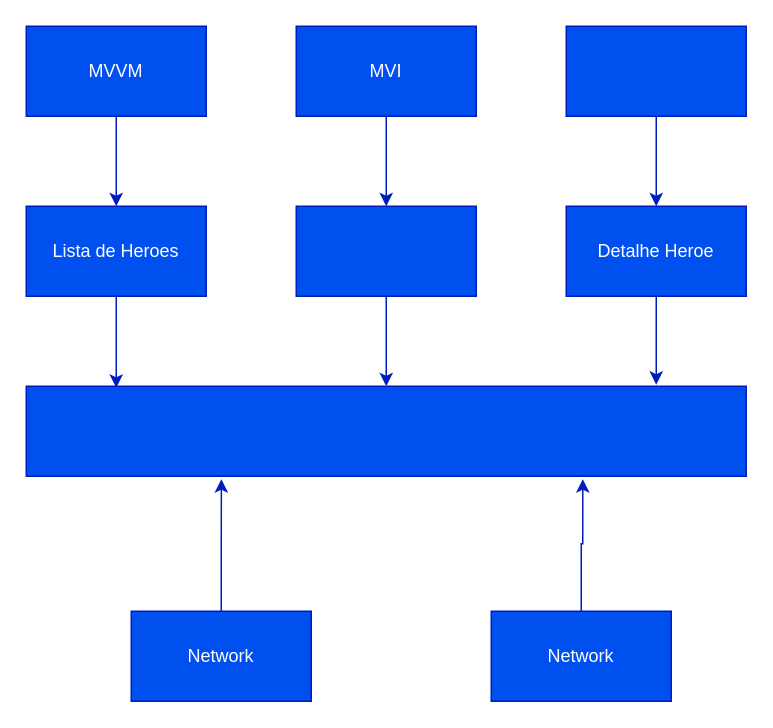
This 773x728 diagram has some shape labels left out. Each missing label, with the centre of its shape:
Domain: the point at 385,430
Heroes Favoritos: the point at 385,250
MVP: the point at 655,70
